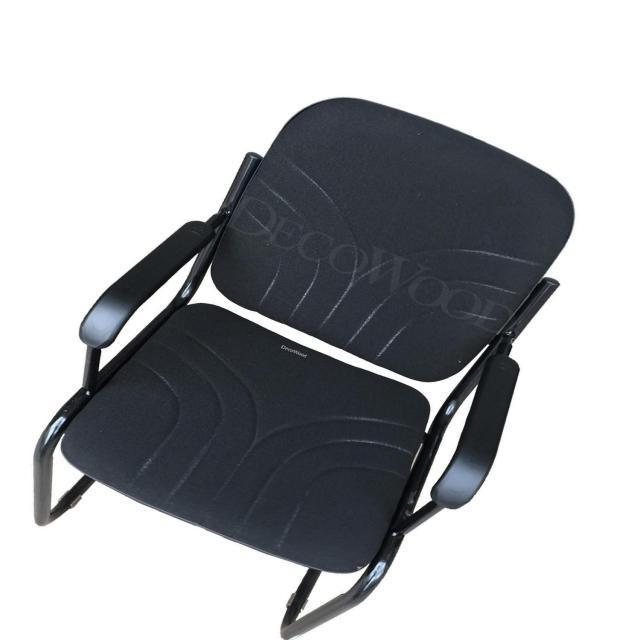chair: (31, 94, 576, 640)
